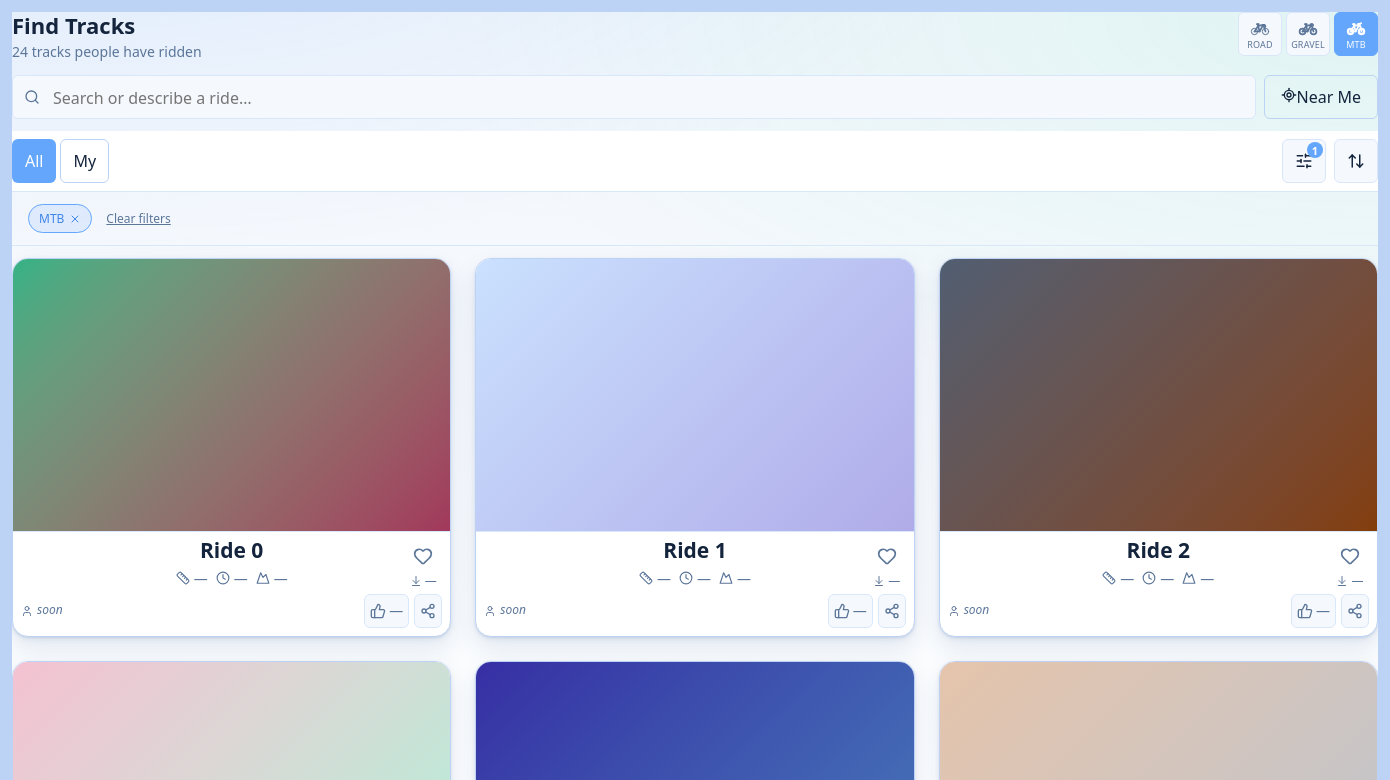
Scenario: Near Me — permission accepted › refetches with nearLat/nearLon/nearRadiusKm=10 and sort=near_me
Click the button "Near Me": (1321, 97) [1264,75,1378,119]
Wait 50 ms
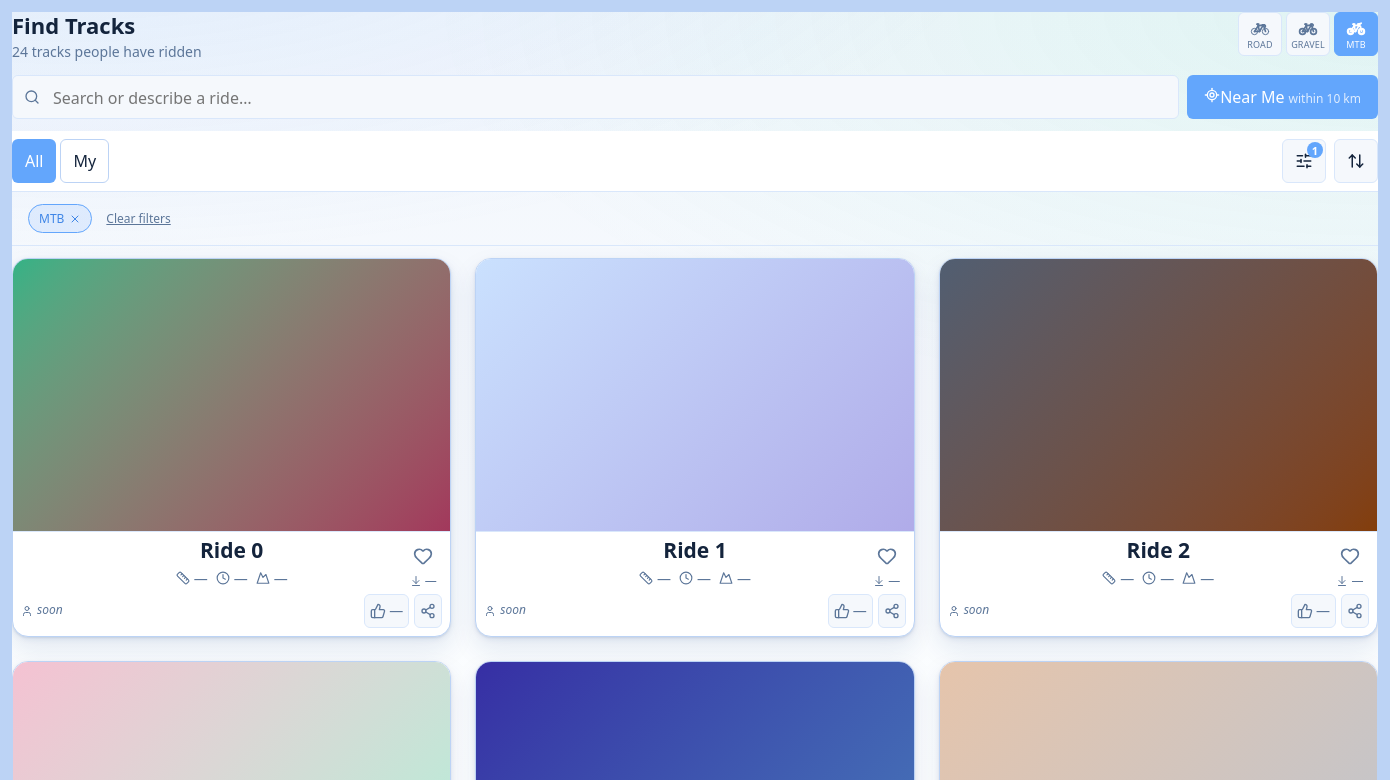
Expected: the button "Near Me" shows "within 10 km", [1187,75,1378,119]
